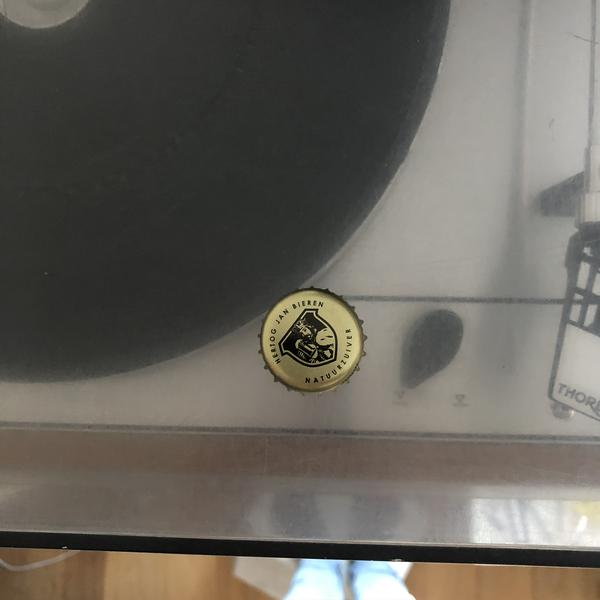hertogjan: (255, 286, 370, 395)
